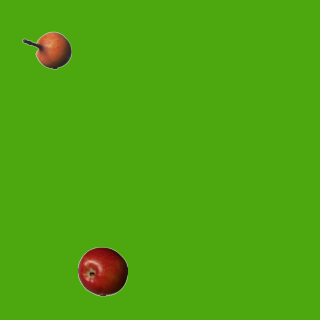Apple Braeburn: (77, 246, 127, 296)
Granadilla: (21, 25, 71, 75)
